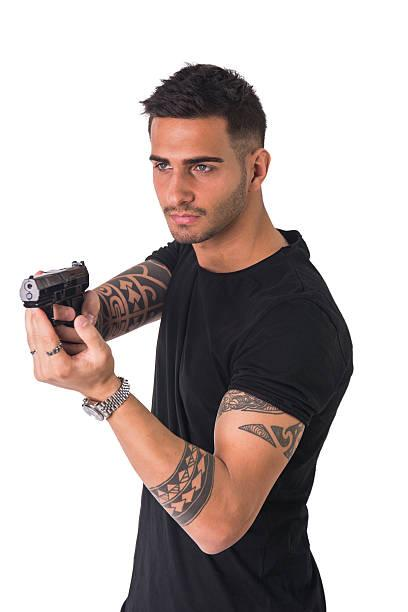weapon: (16, 258, 93, 333)
